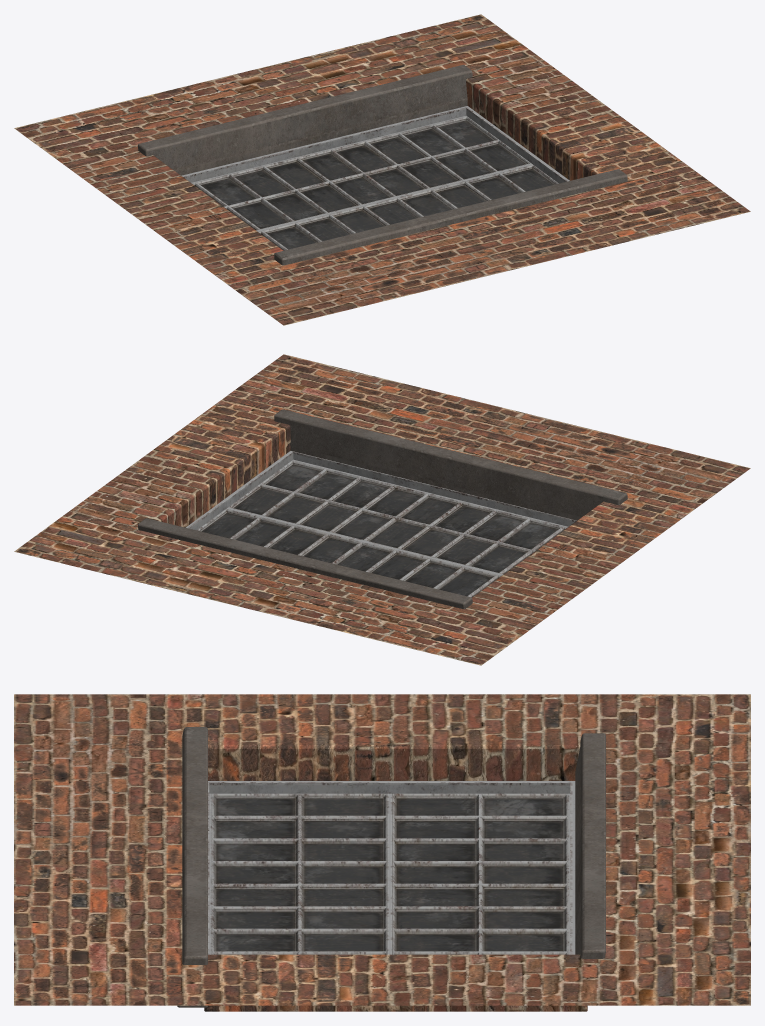
File: factory_wall.obj
3 views of the same model, one above another, from view 1: azimuth 30°, elevation 25°; view 2: azimuth 150°, elevation 25°; view 3: azimuth 270°, elevation 25° (orthographic). The views are drawn at different scales.
Parts seen in each view (by area): view 1: wall_window_centered_large_01, window_centered_large_01; view 2: wall_window_centered_large_01, window_centered_large_01; view 3: wall_window_centered_large_01, window_centered_large_01.
Boxes of the visible parts, left/top/right/bottom form: wall_window_centered_large_01: left=14, top=14, right=750, bottom=325; window_centered_large_01: left=138, top=64, right=627, bottom=265; wall_window_centered_large_01: left=14, top=354, right=750, bottom=665; window_centered_large_01: left=138, top=409, right=627, bottom=609; wall_window_centered_large_01: left=14, top=694, right=750, bottom=1011; window_centered_large_01: left=177, top=727, right=605, bottom=1007.
Bounding box in the file's own units: 4 × 0.4 × 4.
Materials: 3 (3 with a texture image).
